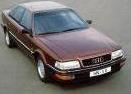front_view: (53, 45, 128, 81)
headlight: (55, 59, 82, 71)
side_glass: (10, 6, 32, 32)
